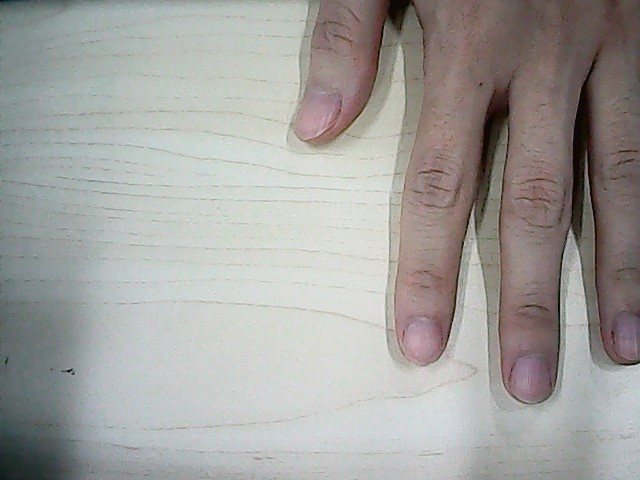nail: (291, 89, 343, 142), (507, 351, 554, 404), (400, 315, 445, 365), (608, 313, 640, 363)
